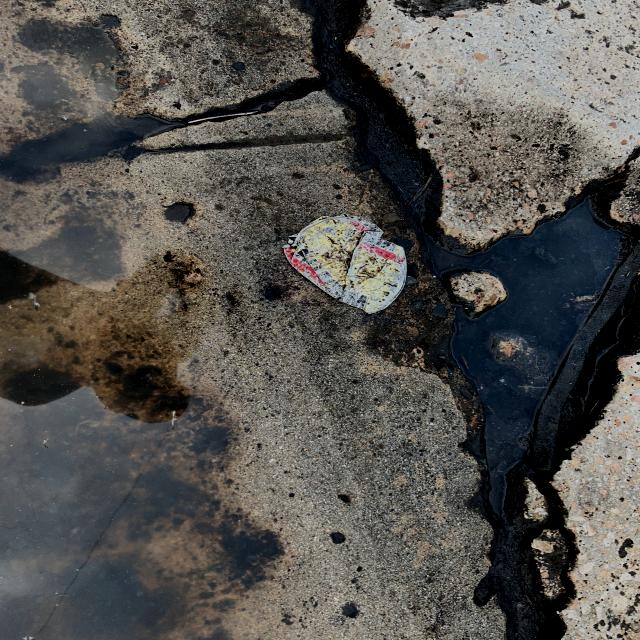Drink can: (281, 213, 407, 314)
Unlabeled litter: (189, 111, 259, 124)
